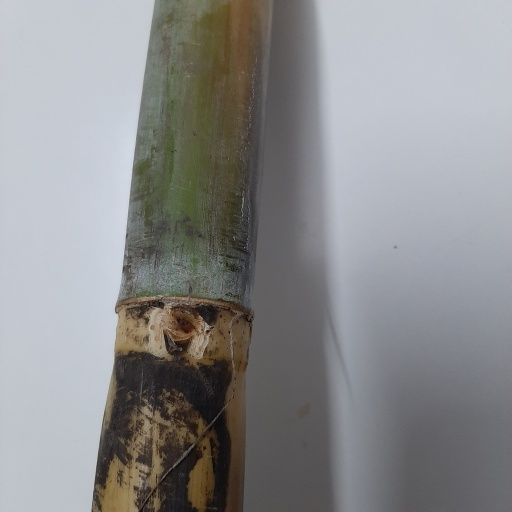Damage_Bud: (163, 306, 201, 355)
